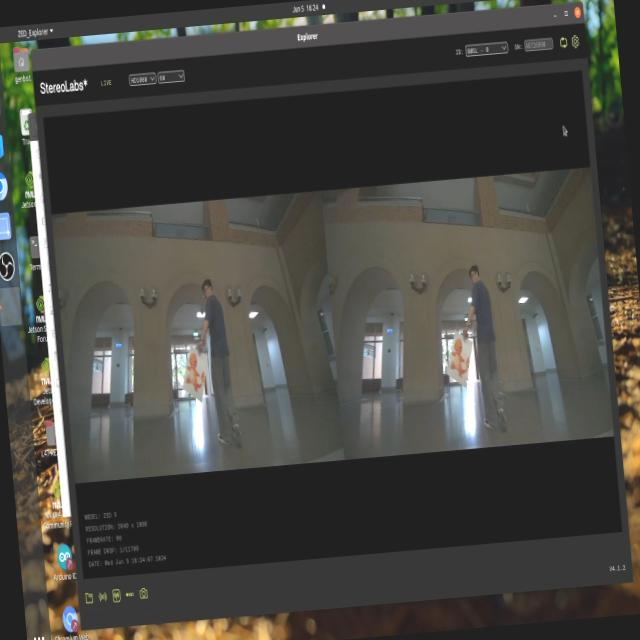red: (175, 347, 210, 400), (451, 335, 476, 388)
